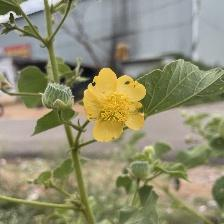indian mallow: (83, 68, 148, 145)
